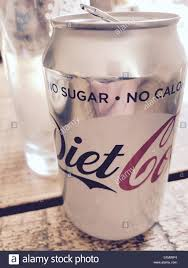can: (38, 5, 181, 249)
